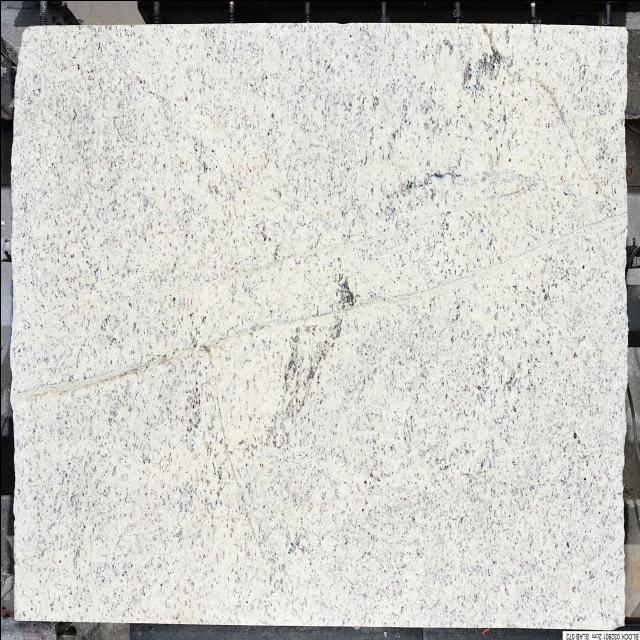chapa: (10, 22, 626, 627)
